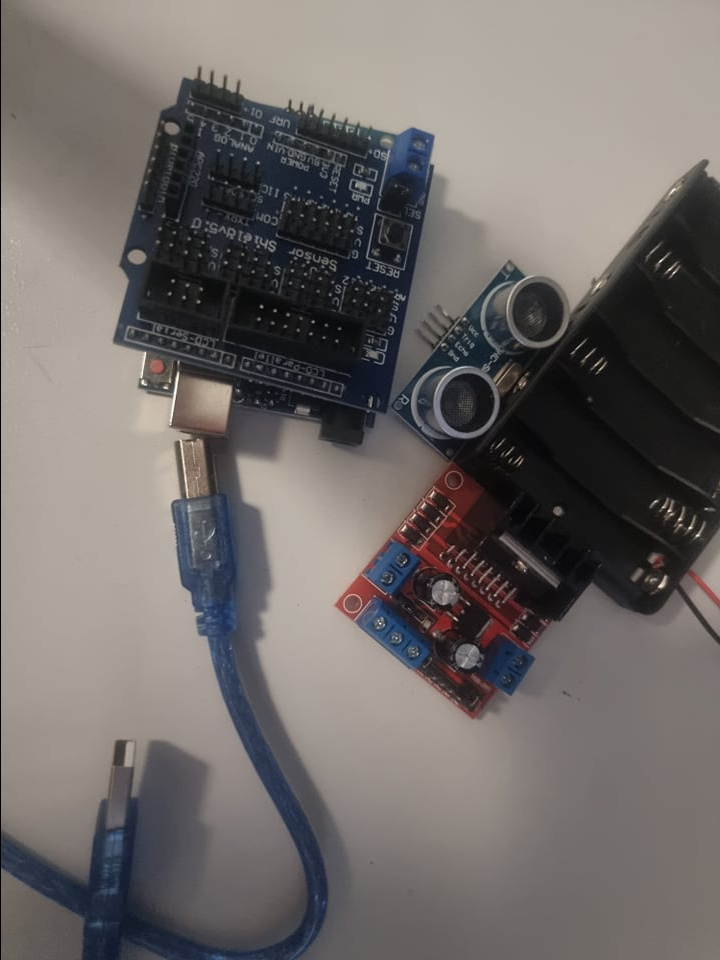5V EXPANSION: (124, 73, 435, 370)
BATTERY BOX: (470, 159, 719, 609)
MOTOR: (341, 480, 592, 724)
SENSOR: (404, 259, 570, 448)
UNO R3: (116, 354, 377, 449)
